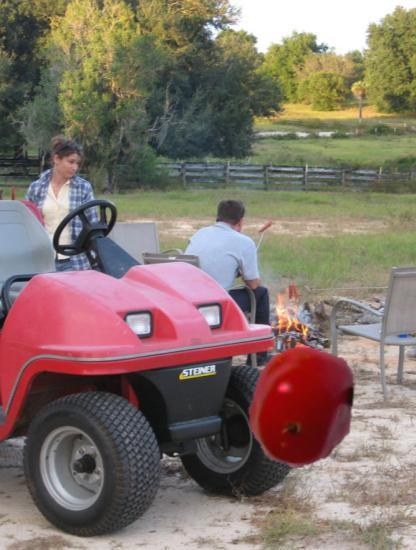Tomato: (240, 346, 362, 468)
